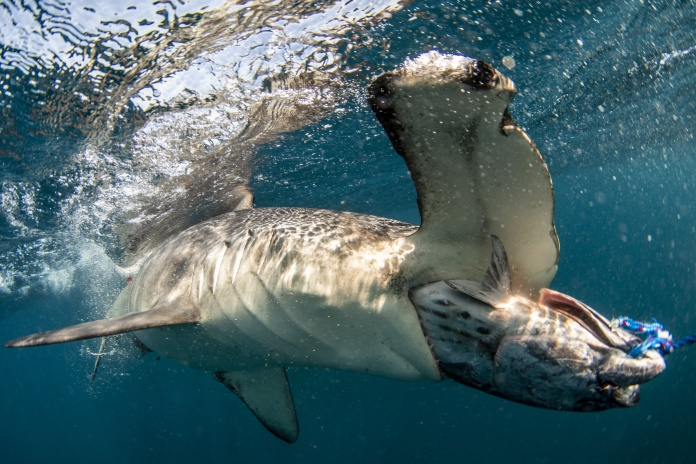Hammer: (1, 9, 609, 458)
